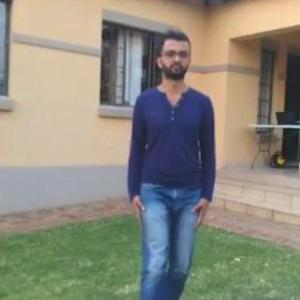follow: (125, 20, 217, 282)
